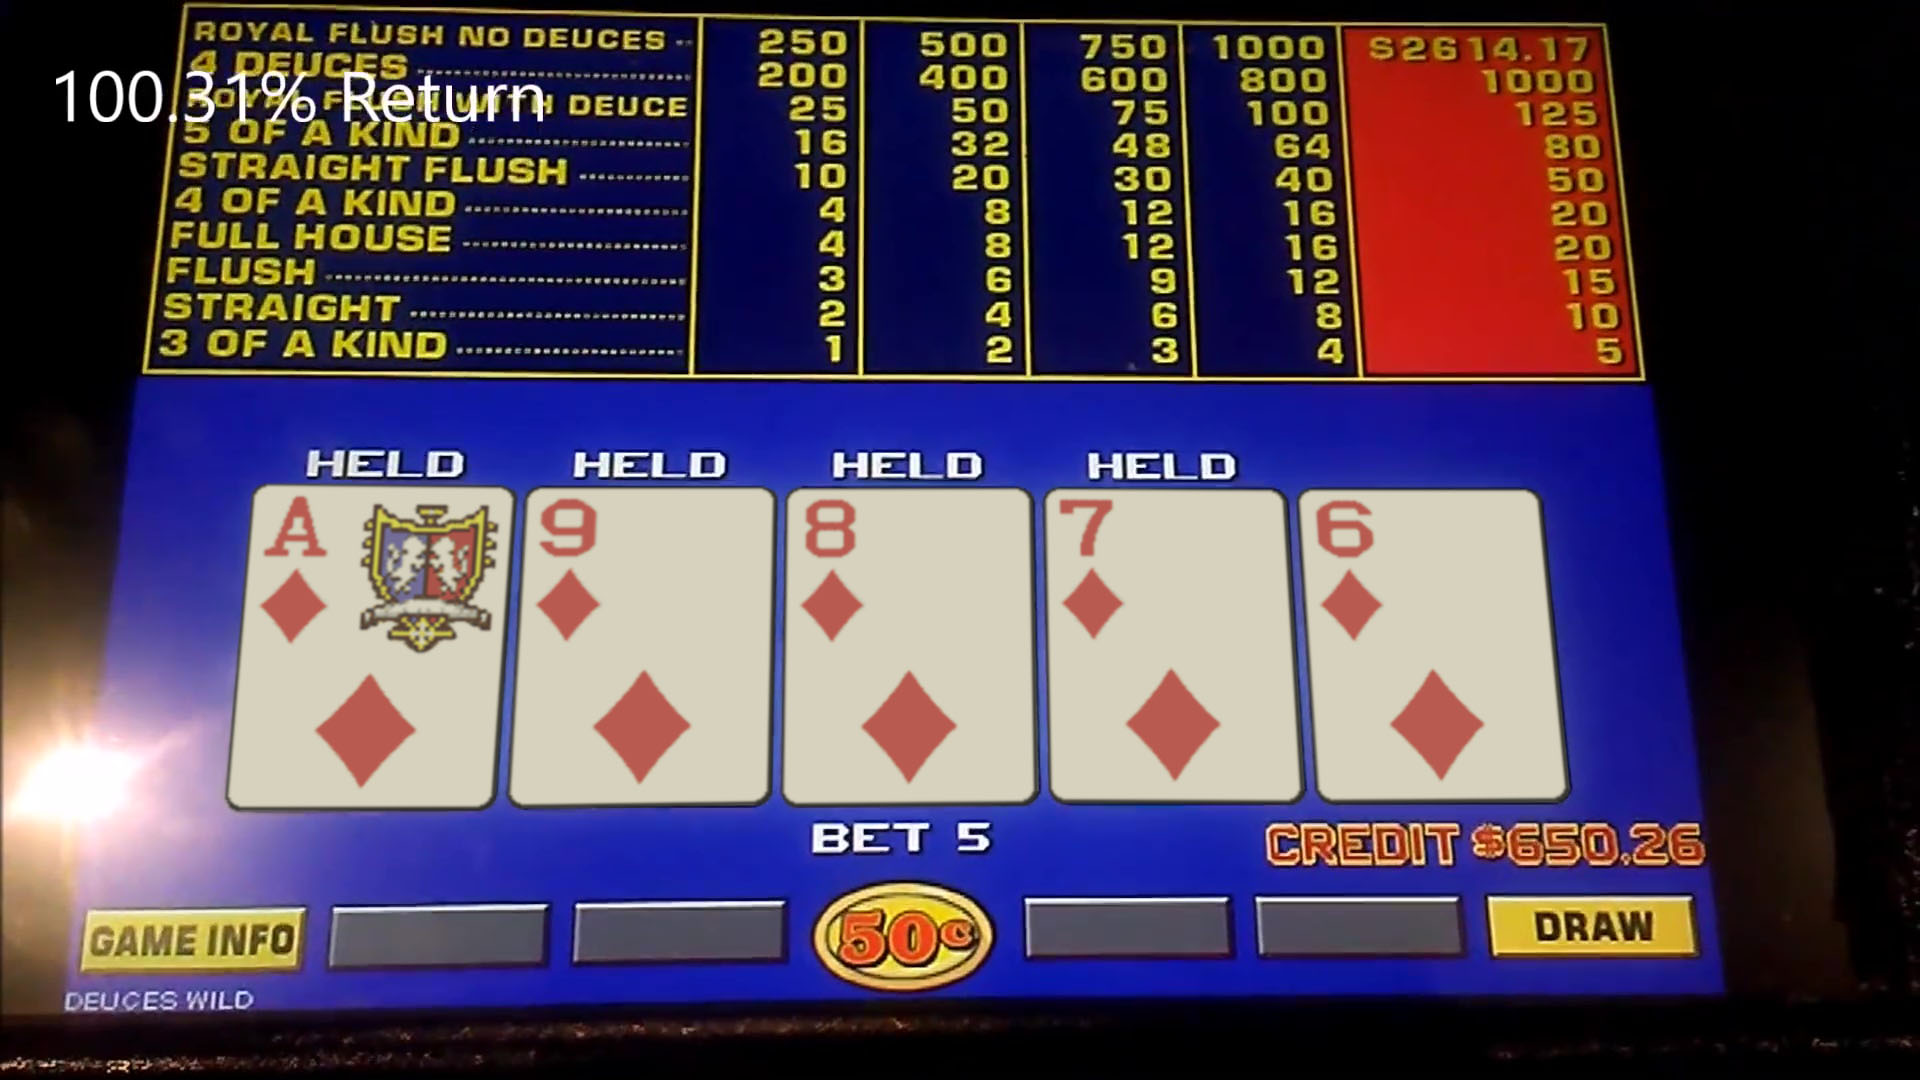D6: (1313, 492, 1549, 802)
D7: (1048, 492, 1290, 800)
D8: (786, 489, 1035, 803)
D9: (517, 491, 764, 802)
DA: (247, 487, 498, 808)
